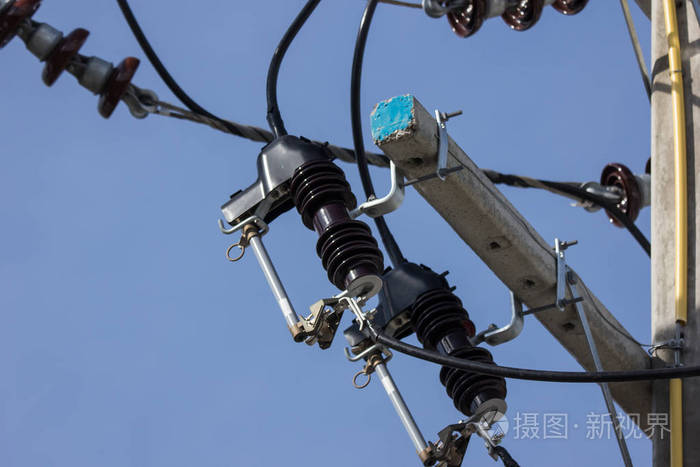insulator: (38, 28, 141, 119), (444, 1, 590, 38), (601, 159, 641, 228)
